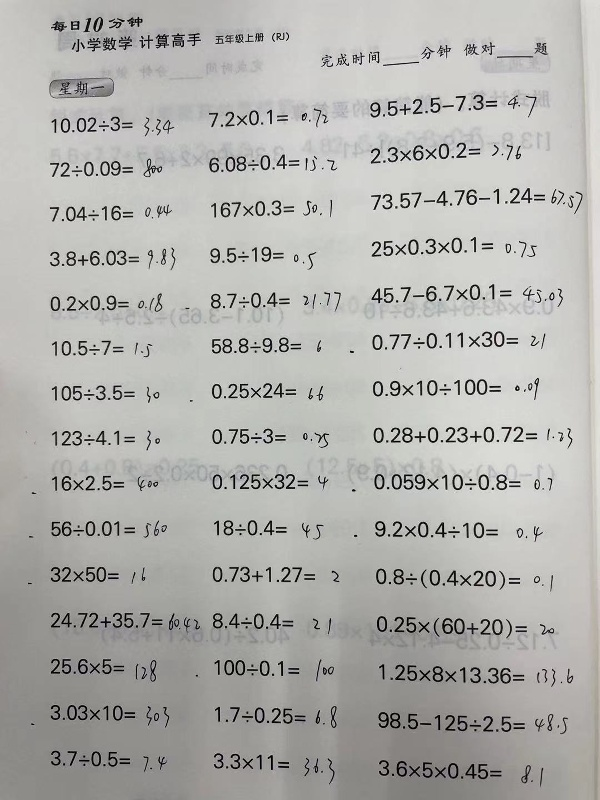equation: (366, 181, 585, 219), (371, 415, 577, 454), (373, 654, 575, 692), (368, 277, 568, 312), (368, 322, 556, 359), (375, 706, 571, 740), (368, 609, 558, 644), (366, 463, 557, 497), (373, 756, 546, 792), (367, 514, 542, 546), (364, 89, 539, 120), (208, 748, 339, 789), (368, 373, 543, 403), (370, 564, 556, 592), (49, 608, 205, 640), (366, 232, 539, 260), (210, 655, 340, 687), (365, 138, 524, 164), (208, 562, 344, 592), (212, 608, 339, 640), (210, 701, 340, 731), (207, 424, 332, 455), (46, 244, 179, 273), (206, 287, 344, 314), (45, 700, 172, 729), (203, 149, 339, 175), (45, 653, 159, 683), (46, 111, 176, 137), (46, 289, 166, 316), (46, 154, 166, 181), (206, 195, 335, 220), (46, 746, 170, 772), (205, 241, 318, 269), (204, 104, 330, 129), (48, 426, 164, 453), (45, 200, 174, 224), (47, 516, 170, 541), (207, 333, 325, 359), (206, 377, 326, 402), (208, 469, 332, 493), (208, 515, 325, 540), (47, 380, 162, 404), (48, 471, 162, 494), (47, 335, 154, 359), (45, 561, 147, 586)
